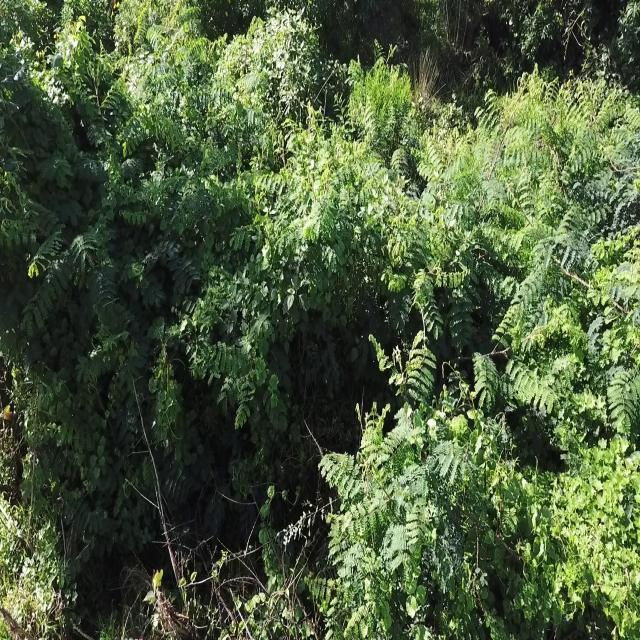Mysore-Thorn-Weed: (322, 338, 481, 610), (0, 199, 192, 315), (521, 233, 640, 343), (558, 71, 640, 215), (469, 74, 537, 224), (134, 0, 212, 114), (66, 94, 133, 190), (471, 349, 556, 414), (608, 355, 640, 437)
